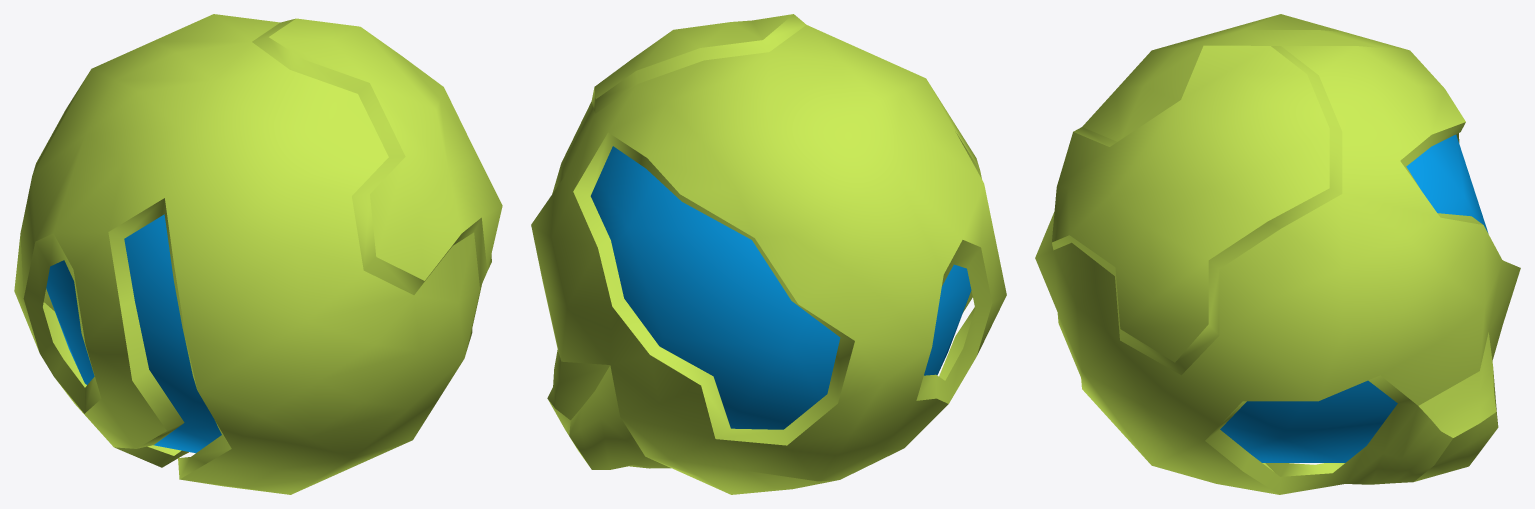
Rendered from planet_01.glb.
3 views of the same model, side by side, from view 1: azimuth 30°, elevation 25°; view 2: azimuth 150°, elevation 25°; view 3: azimuth 270°, elevation 25° (orthographic). The views are drawn at different scales.
Parts seen in each view (by area): view 1: PLANET_GREEN_BODY, PLANET_GREEN_WATER; view 2: PLANET_GREEN_BODY, PLANET_GREEN_WATER; view 3: PLANET_GREEN_BODY, PLANET_GREEN_WATER.
Part boxes in pixels (bbox=[...]): PLANET_GREEN_BODY: bbox=[14, 14, 502, 494]; PLANET_GREEN_WATER: bbox=[46, 214, 221, 453]; PLANET_GREEN_BODY: bbox=[531, 14, 1006, 494]; PLANET_GREEN_WATER: bbox=[590, 146, 971, 429]; PLANET_GREEN_BODY: bbox=[1035, 14, 1520, 494]; PLANET_GREEN_WATER: bbox=[1220, 134, 1488, 462].
Size of the model in its own units: 5.4 by 5.44 by 5.54.
